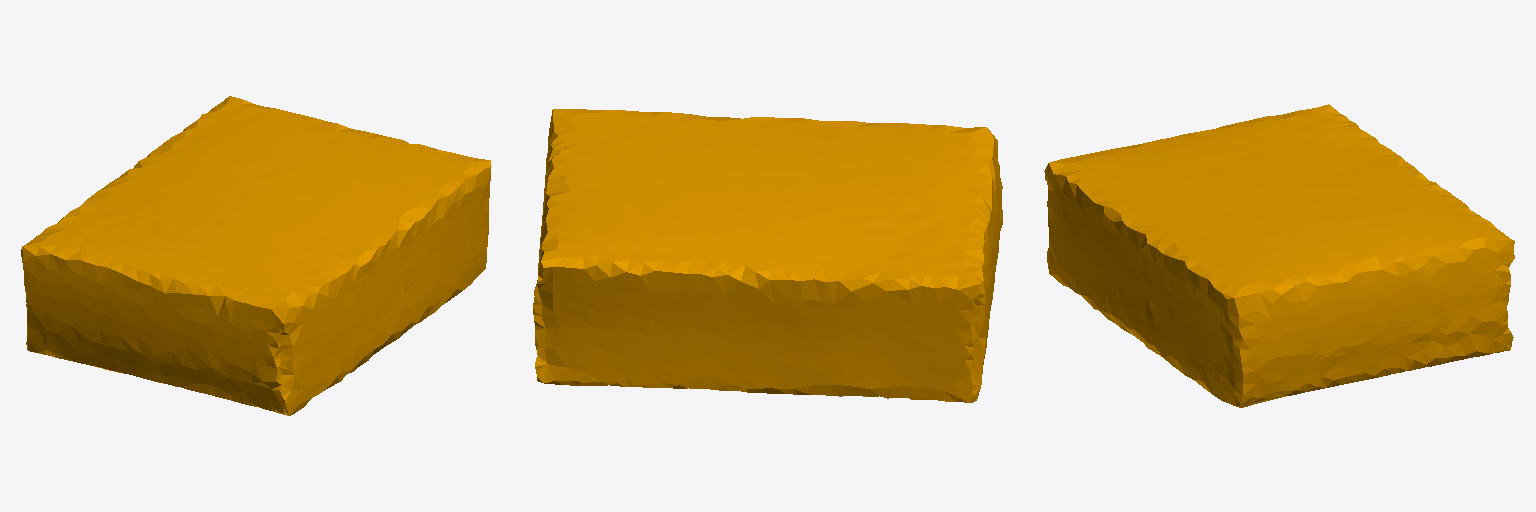
robot.urdf — jellOChocolateFlavorPudding:
<?xml version="1.0" encoding="UTF-8"?>
<robot name="jellOChocolateFlavorPudding">
	<link name="base">
		<collision>
			<geometry>
				<mesh filename="jellOChocolateFlavorPudding.obj"/>
			</geometry>
			<origin xyz="0 0 0"/>
		</collision>
		<visual>
			<geometry>
				<mesh filename="jellOChocolateFlavorPudding.obj"/>
			</geometry>
			<origin xyz="0 0 0"/>
		</visual>
		<inertial>
			<mass value="0.005"/>
			<inertia ixx="4.050041013530916e-06" ixy="-7.337853431604745e-07" ixz="-9.749366260376737e-08" iyy="5.051667122460292e-06" iyz="-3.0441850101476566e-08" izz="8.054038929819078e-06" />
			<origin xyz="0.0010104309075403609 -0.0003153657646764152 -0.00030219982758505833"/>
		</inertial>
	</link>
</robot>

--- Render facts (derived) ---
Views: 3 orthographic renders of the robot side by side, from view 1: azimuth 30°, elevation 25°; view 2: azimuth 150°, elevation 25°; view 3: azimuth 270°, elevation 25°.
Model jellOChocolateFlavorPudding with 1 links and 0 joints (none), rooted at base, posed every joint at zero.
Links seen in each view (by area): view 1: base; view 2: base; view 3: base.
Boxes of the visible links, <box> form: base: <box>21,96,491,415</box>; base: <box>533,109,1002,402</box>; base: <box>1044,104,1514,407</box>.
Bounding box of the posed robot: 0.1374 × 0.1284 × 0.0385 m (x, y, z).
Meshes: 1 distinct files referenced, 1 mesh visuals loaded (1 OBJ).